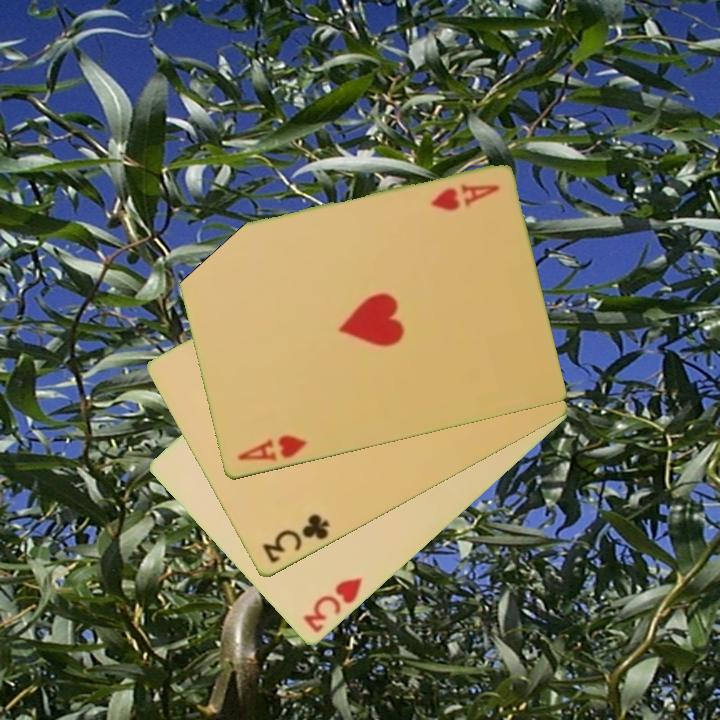3c: (258, 510, 332, 567)
3h: (299, 573, 365, 637)
Ah: (234, 432, 310, 465), (427, 181, 503, 214)
